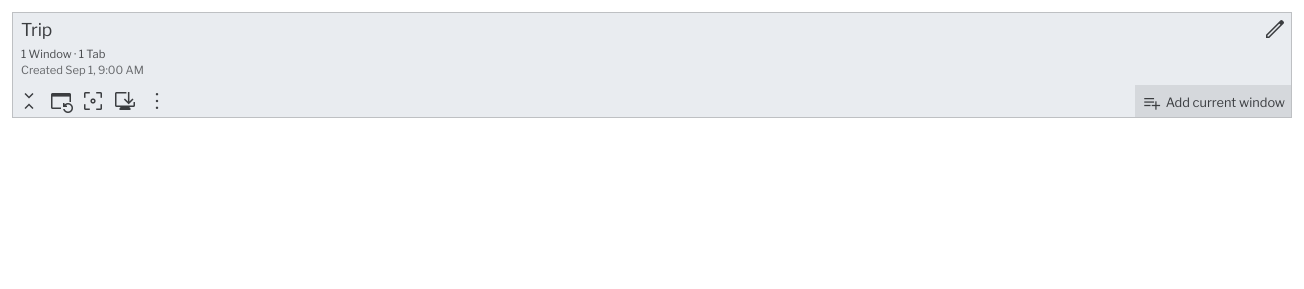
the header › after an Esc on the title, its ⋮ Rename session still saves
The width and height of the screenshot is (1304, 289).
Click the button with aria-label "Rename session: Trip" at (37, 29), box [13,13,60,45]
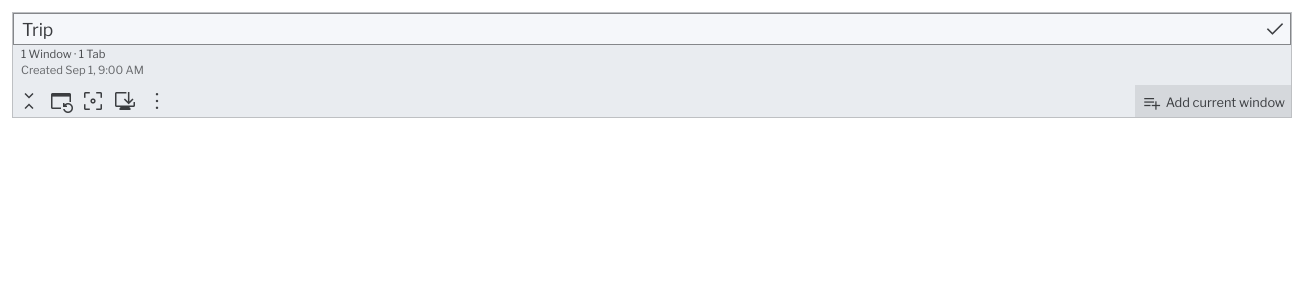
Press Escape
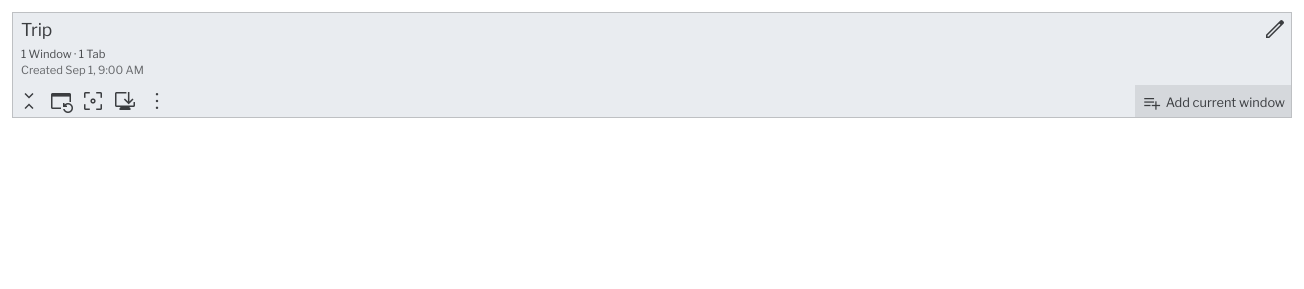
Click the button named "More actions" at (157, 101), box [145,87,169,115]
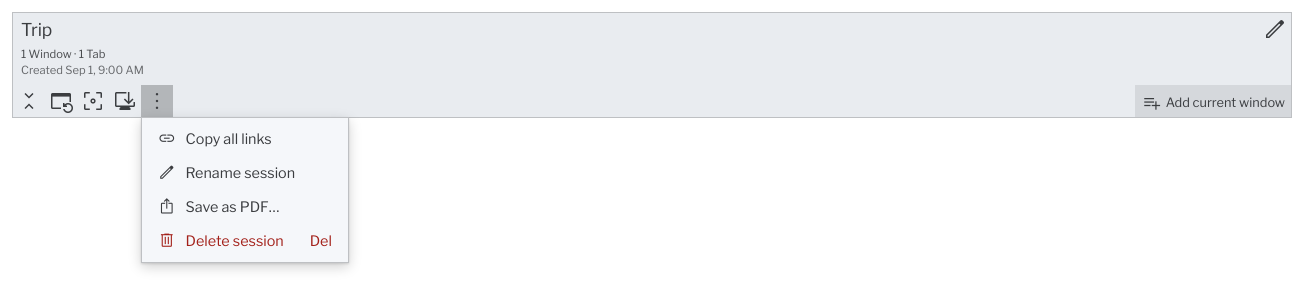
Click the menu item "Rename session" at (245, 173), box [146,156,344,190]
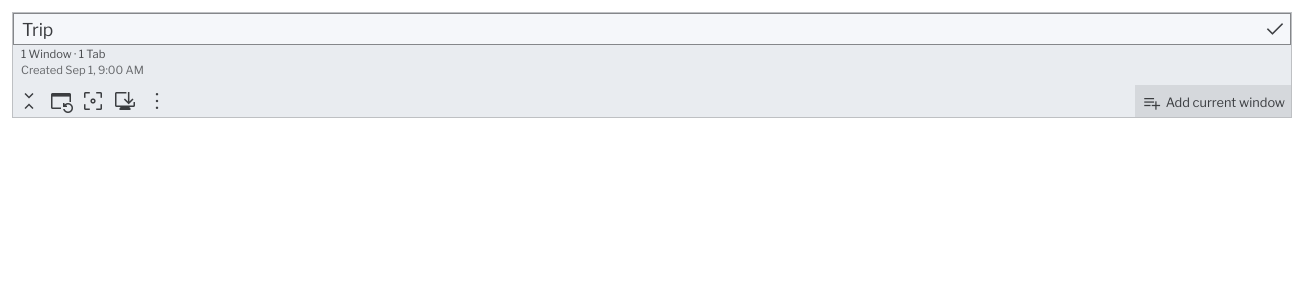
Now the field is shown
Replace the text in the field with "Kyoto" at (652, 29), box [13,13,1291,45]
Then press Enter
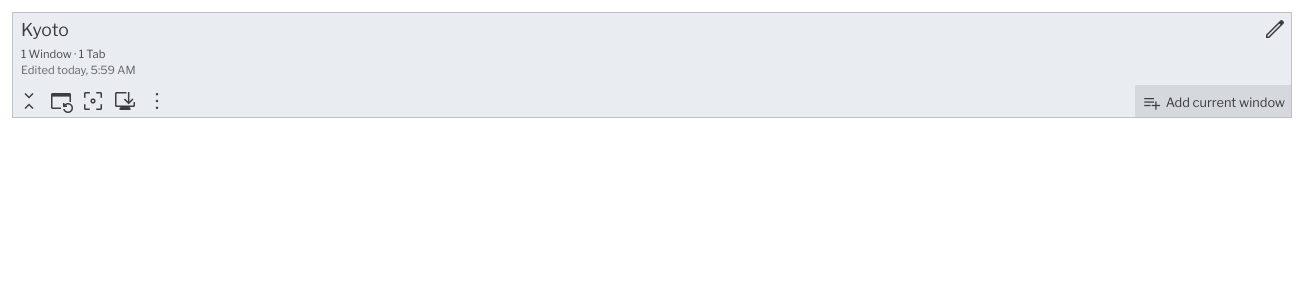
Now the text "Kyoto" is shown, box [21,18,69,40]
